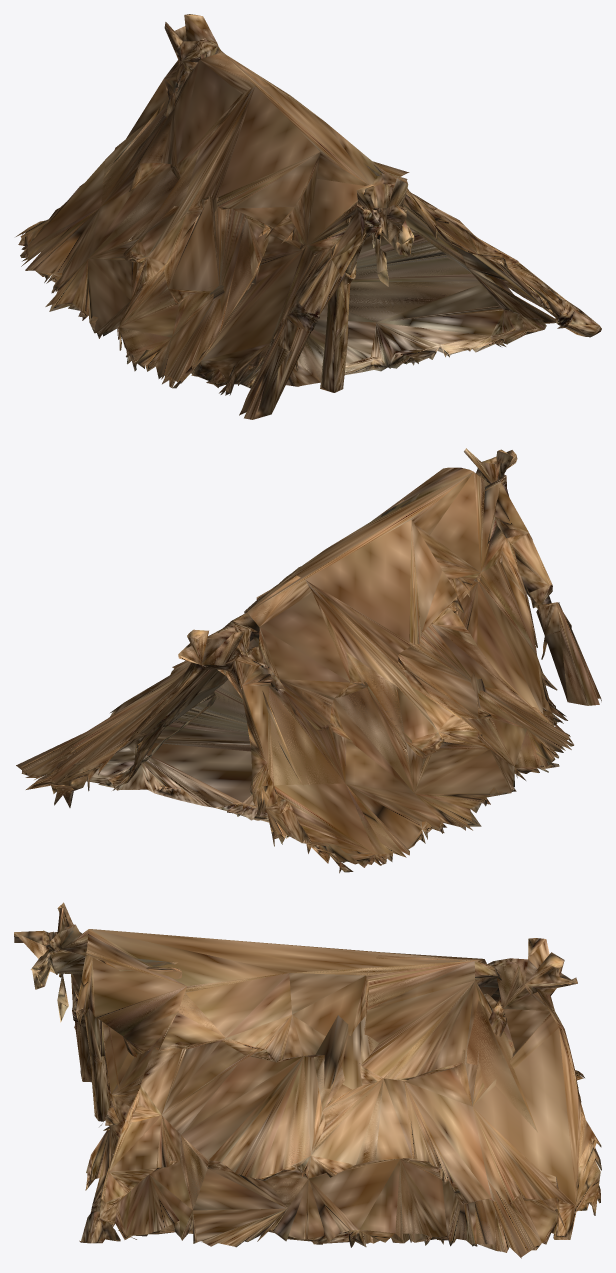
Rendered from fellunterstand.glb.
3 views of the same model, one above another, from view 1: azimuth 30°, elevation 25°; view 2: azimuth 150°, elevation 25°; view 3: azimuth 270°, elevation 25° (orthographic). The views are drawn at different scales.
Bounding box in the file's own units: 1.58 × 0.7877 × 1.89.
1 material, 1 textured.
